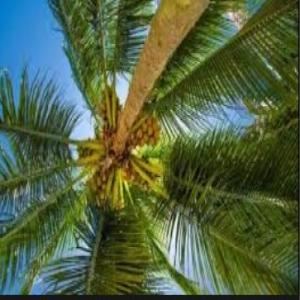palm tree: (0, 0, 298, 293)
